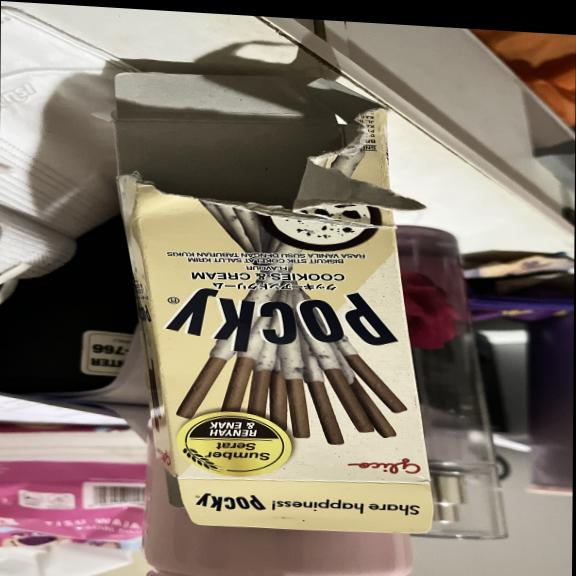Kertas: (113, 110, 433, 486)
